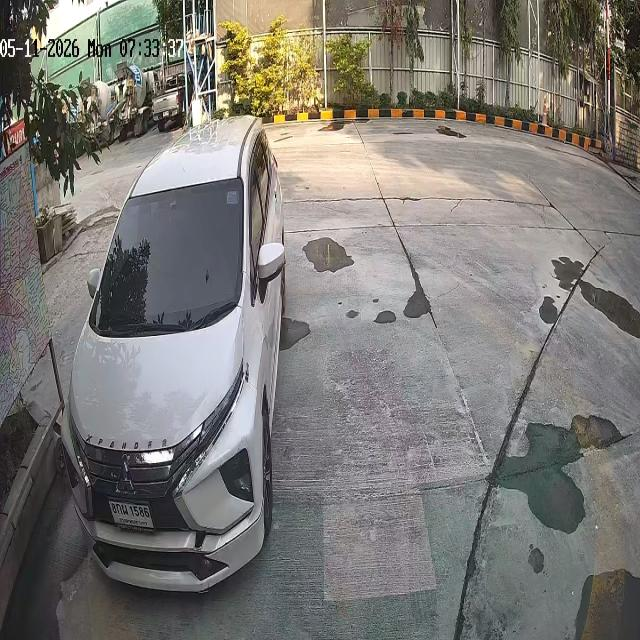cement_mixer_truck: (111, 62, 156, 132), (81, 69, 116, 138), (61, 81, 85, 140)
